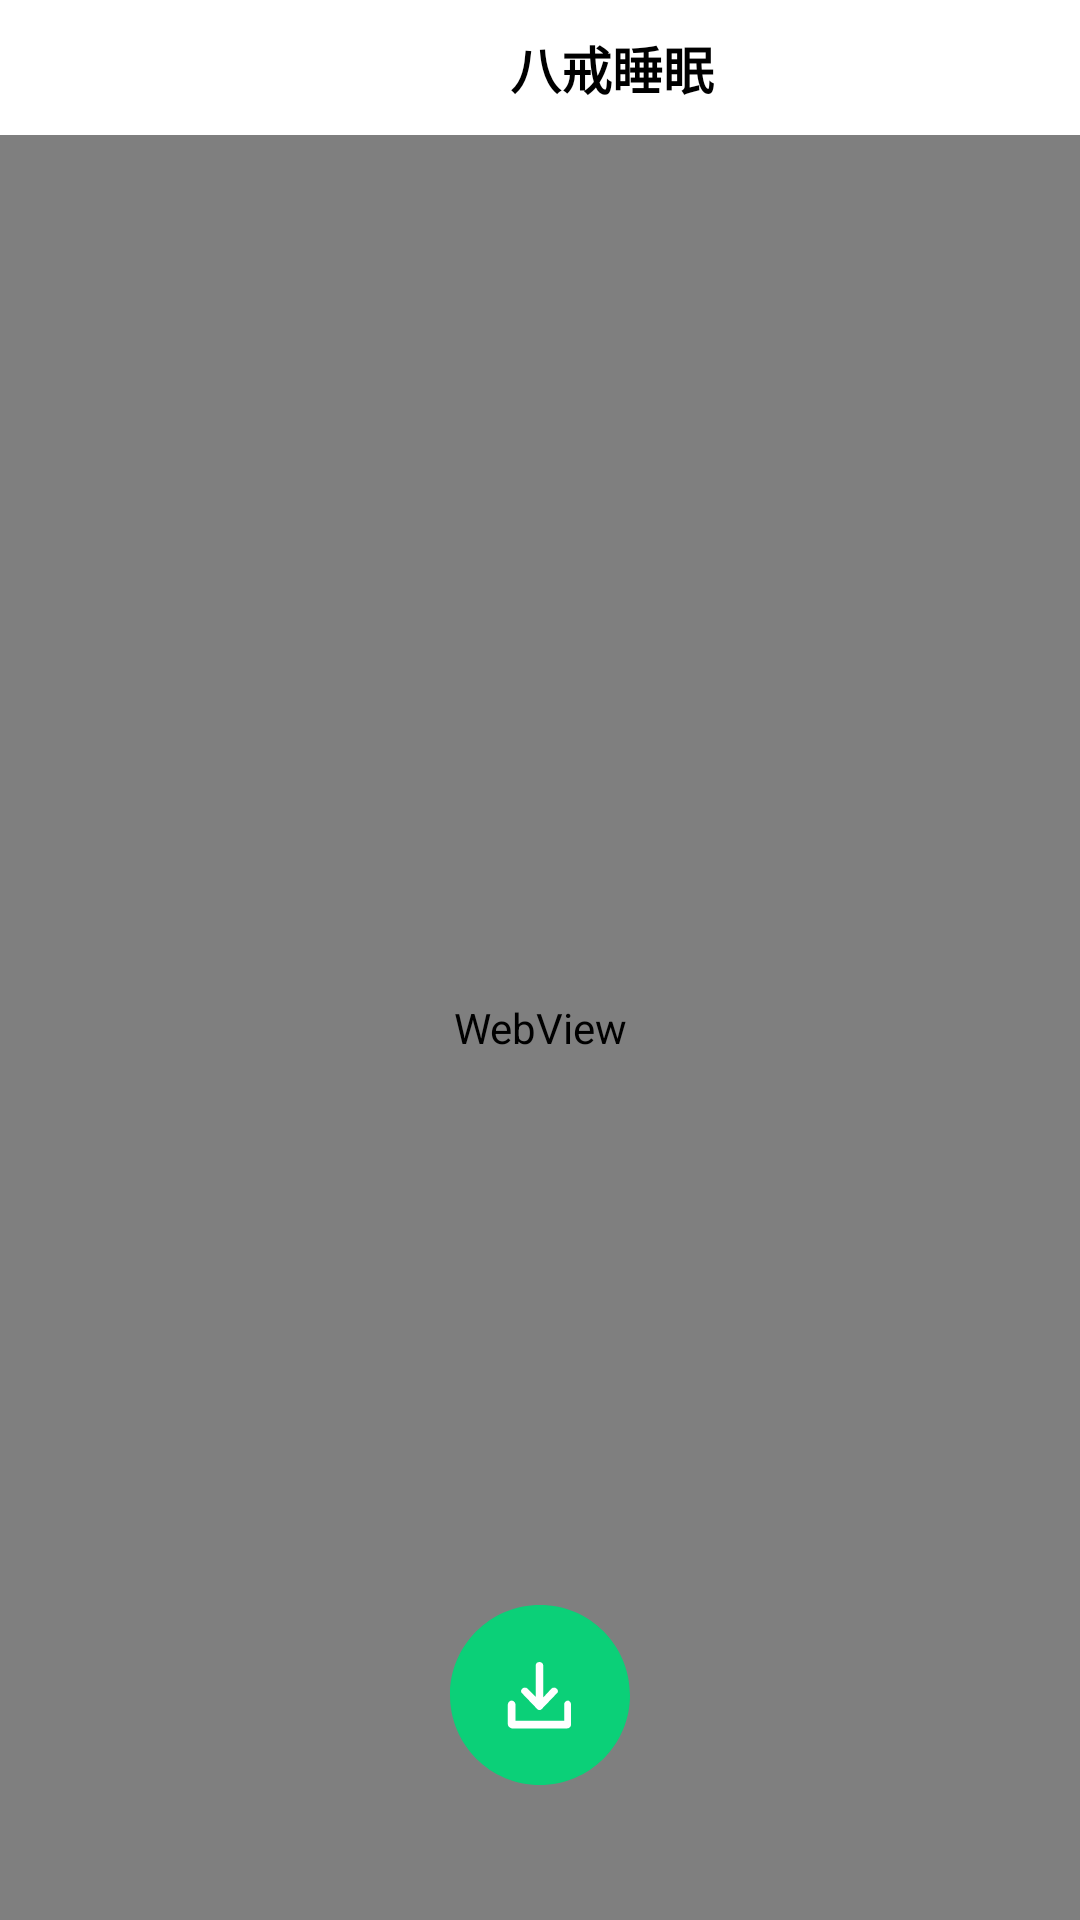

Point at icon controls on the screen. Image size 1080px×1920px, points as [x,y].
download: [540,1695]
